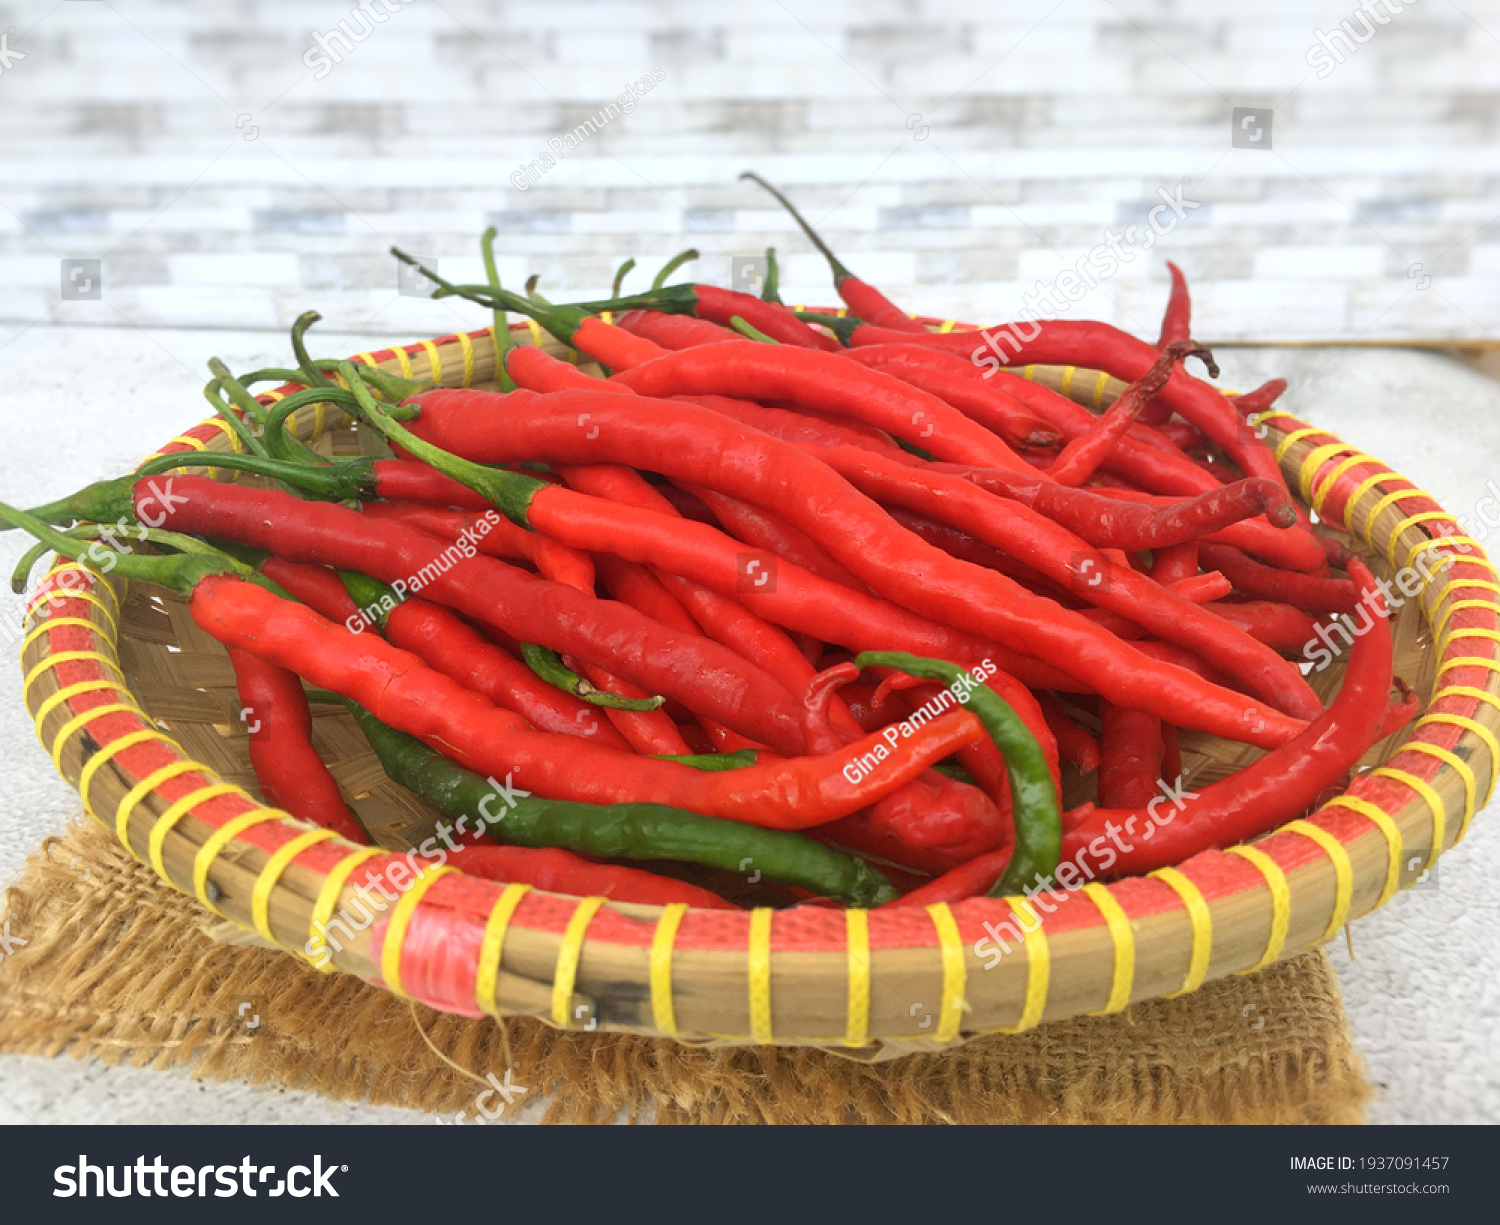Cabai: (145, 227, 1270, 946)
